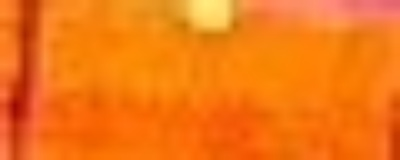Hotspot: (180, 1, 242, 33)
